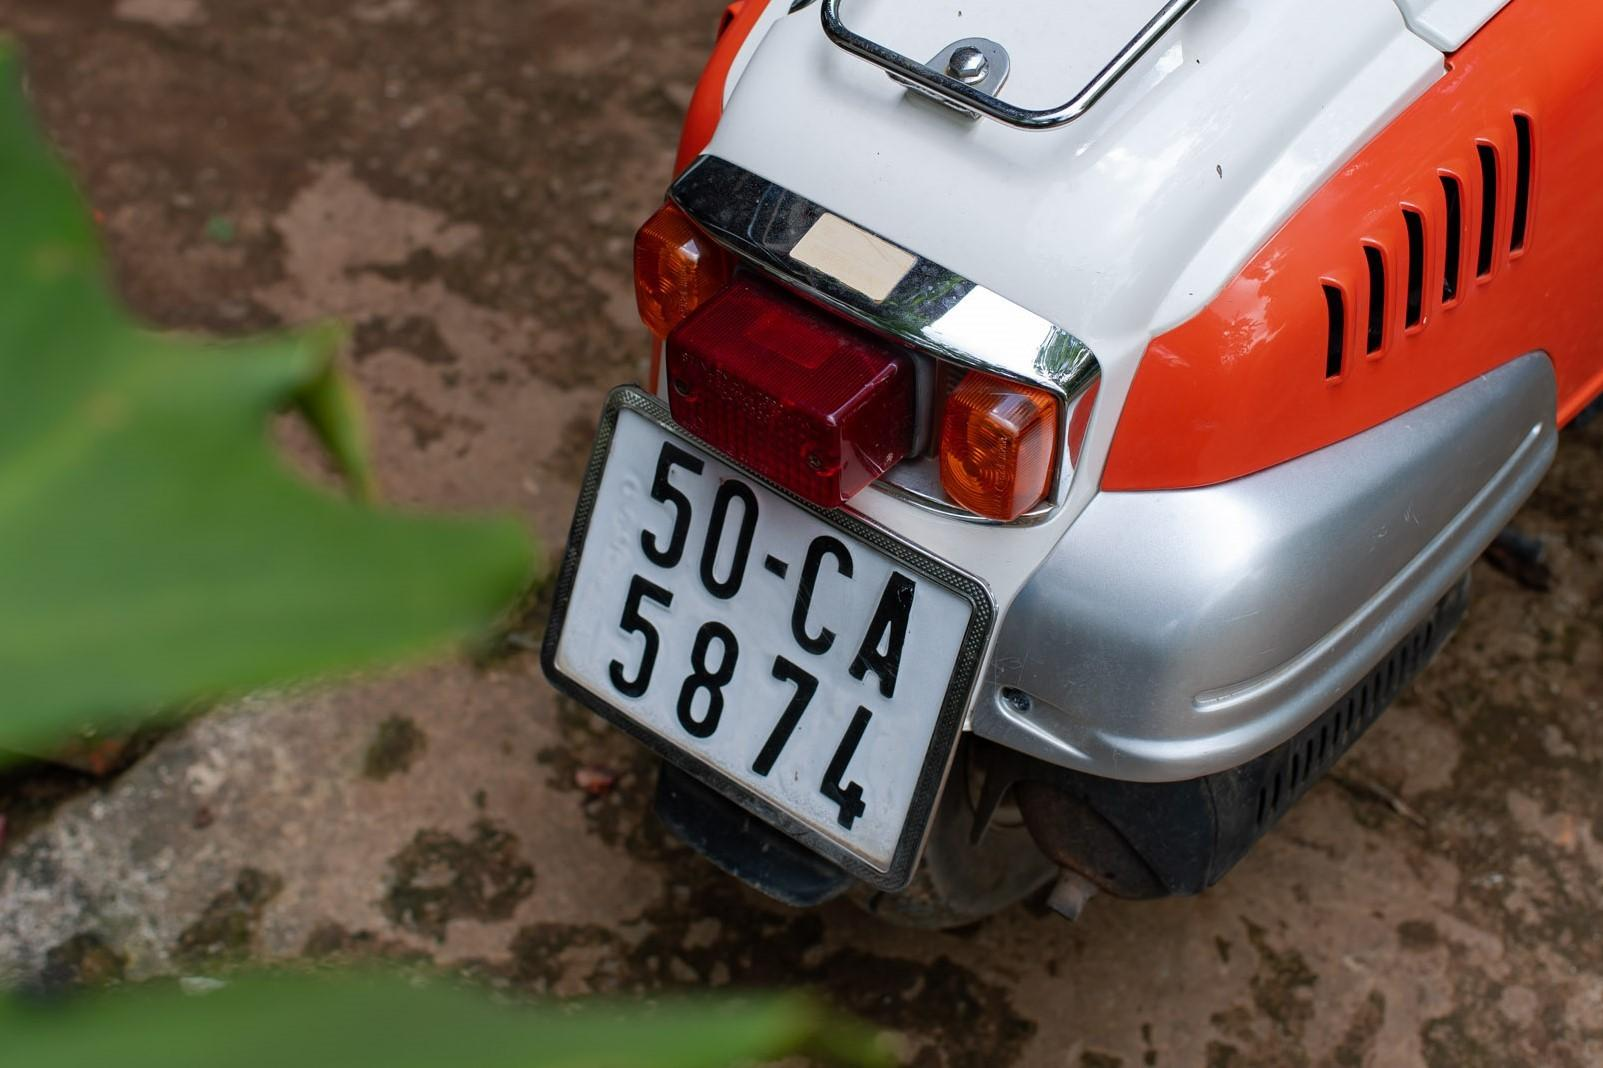bien_so: (549, 397, 985, 884)
